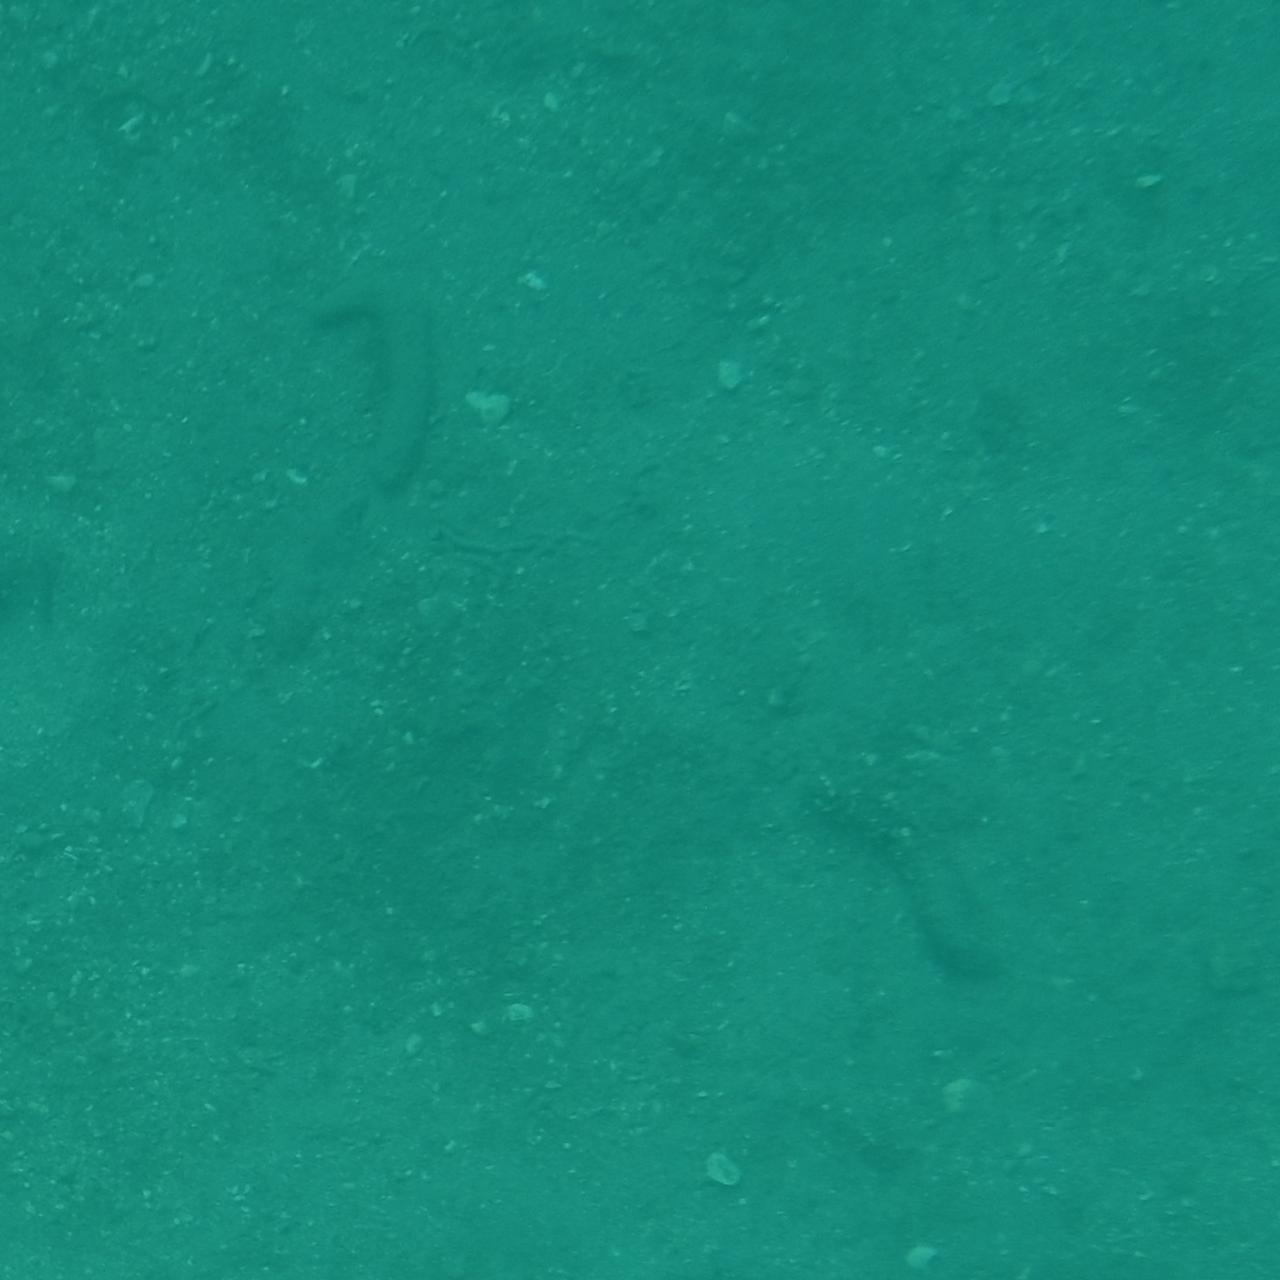Holothuria tubulosa: (798, 757, 1001, 1014), (305, 268, 456, 522)
